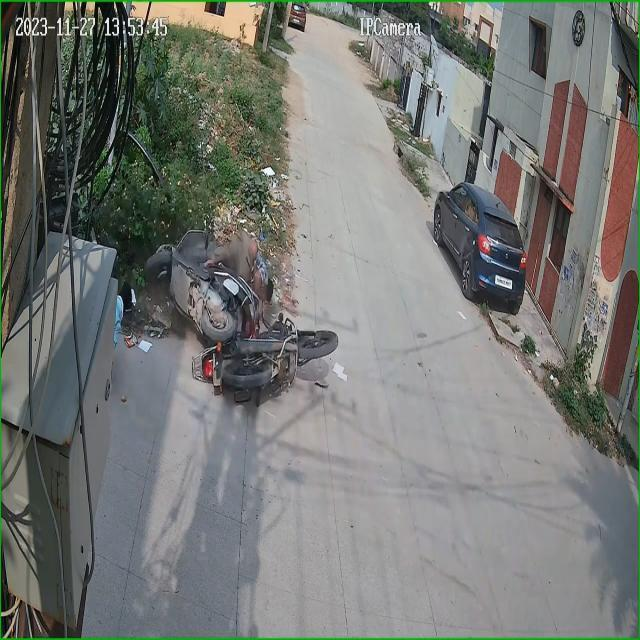accident: (138, 206, 343, 400)
